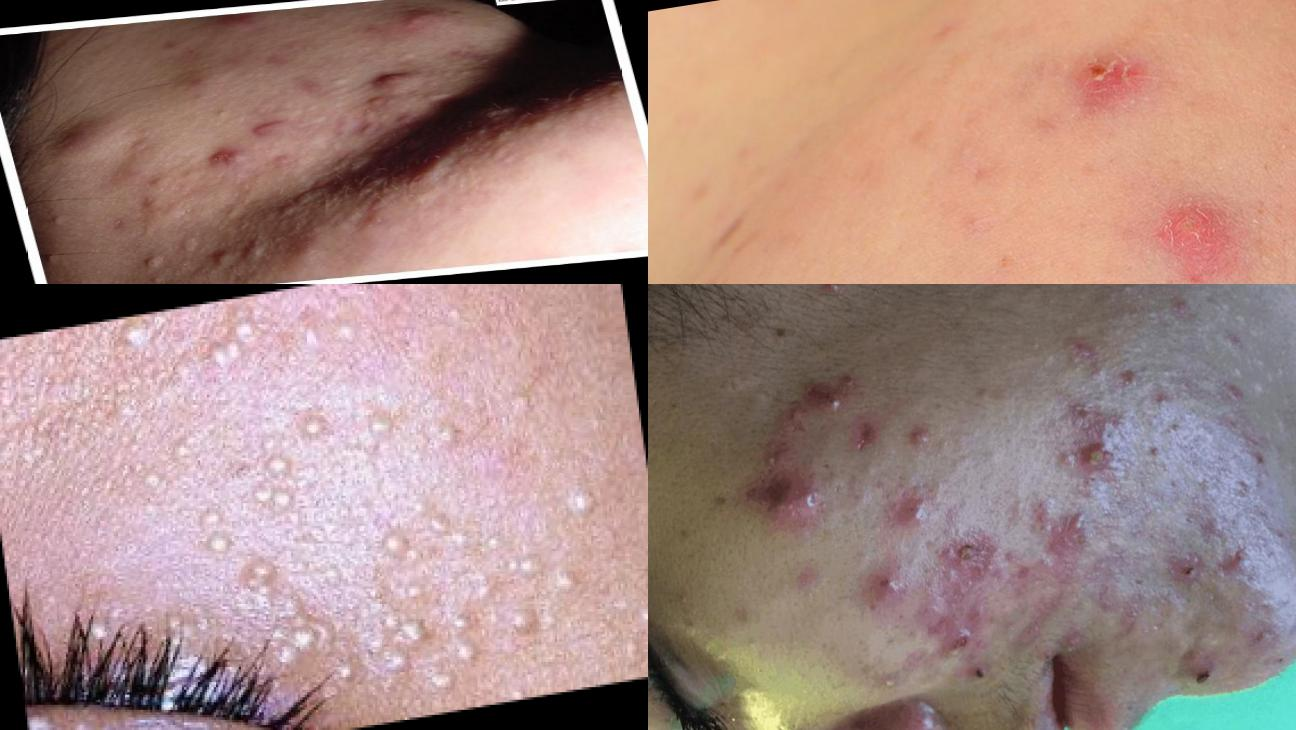blackhead: (659, 564, 718, 660), (857, 446, 890, 489), (773, 706, 819, 730), (138, 248, 178, 273), (42, 244, 82, 267), (210, 246, 237, 269), (105, 277, 150, 285)
cystic: (359, 64, 431, 102), (52, 116, 109, 162), (392, 3, 466, 34)
milium: (323, 592, 493, 721), (347, 390, 483, 478), (363, 504, 470, 613), (488, 532, 588, 643), (152, 304, 273, 395), (239, 546, 323, 677), (114, 421, 214, 529), (287, 301, 383, 387), (238, 443, 304, 523), (187, 494, 242, 567), (553, 476, 606, 527), (297, 407, 331, 453)
papular: (853, 557, 912, 605), (891, 481, 942, 531)
purulent: (1153, 160, 1254, 284), (804, 285, 863, 310)
sebo-crystan-conglo: (1019, 481, 1121, 575), (739, 460, 836, 541), (912, 582, 987, 664), (782, 352, 866, 425), (1152, 620, 1219, 709), (1069, 421, 1141, 490), (823, 690, 935, 730), (939, 513, 1001, 571), (194, 143, 269, 175)
whitehead: (842, 638, 920, 715)
